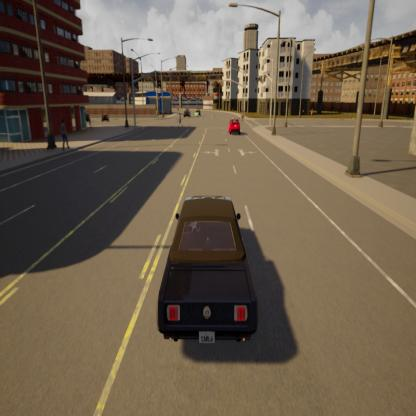Cars: (155, 189, 261, 359), (228, 114, 243, 138)
Pedestrian: (60, 120, 72, 154)
